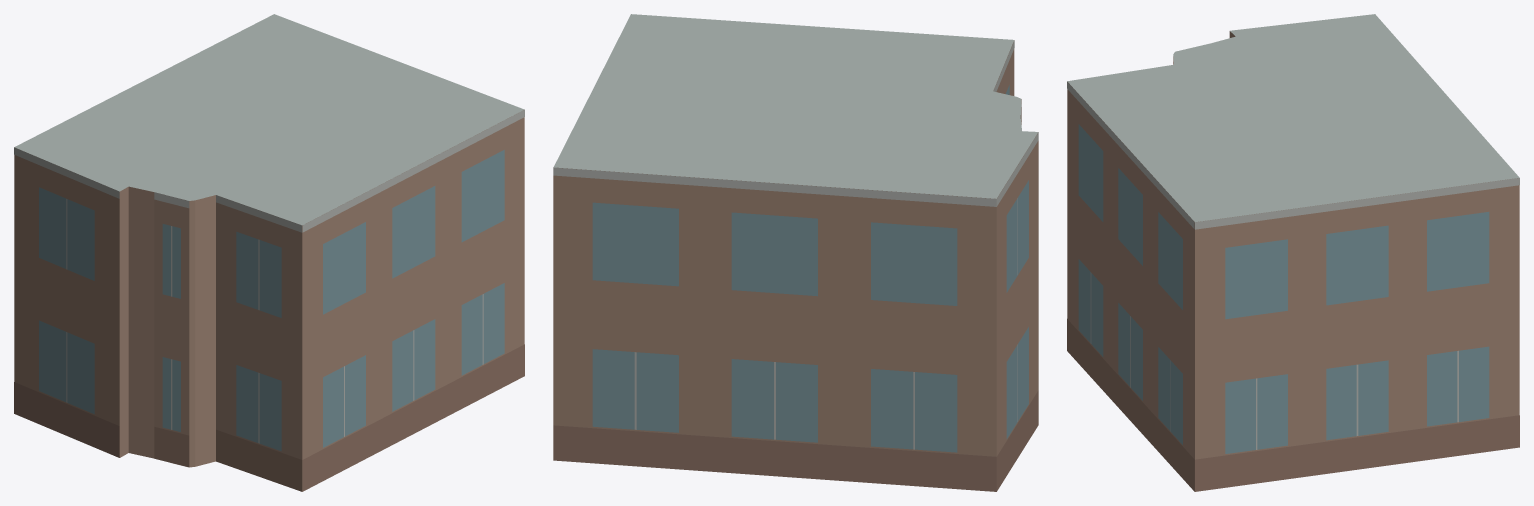
The model's file is survey-upis-32855402.glb.
3 renders of one model, left to right at view 1: azimuth 30°, elevation 25°; view 2: azimuth 150°, elevation 25°; view 3: azimuth 270°, elevation 25°, orthographic. The views are drawn at different scales.
Visible parts, largest first — view 1: survey-upis-32855402.tmp; view 2: survey-upis-32855402.tmp; view 3: survey-upis-32855402.tmp.
Boxes of the visible parts, box(x1,y1,x2,y2) form: survey-upis-32855402.tmp: box(14, 14, 524, 491); survey-upis-32855402.tmp: box(553, 14, 1038, 491); survey-upis-32855402.tmp: box(1067, 14, 1519, 491).
Size of the model in its own units: 14.58 by 8.8 by 13.4.
